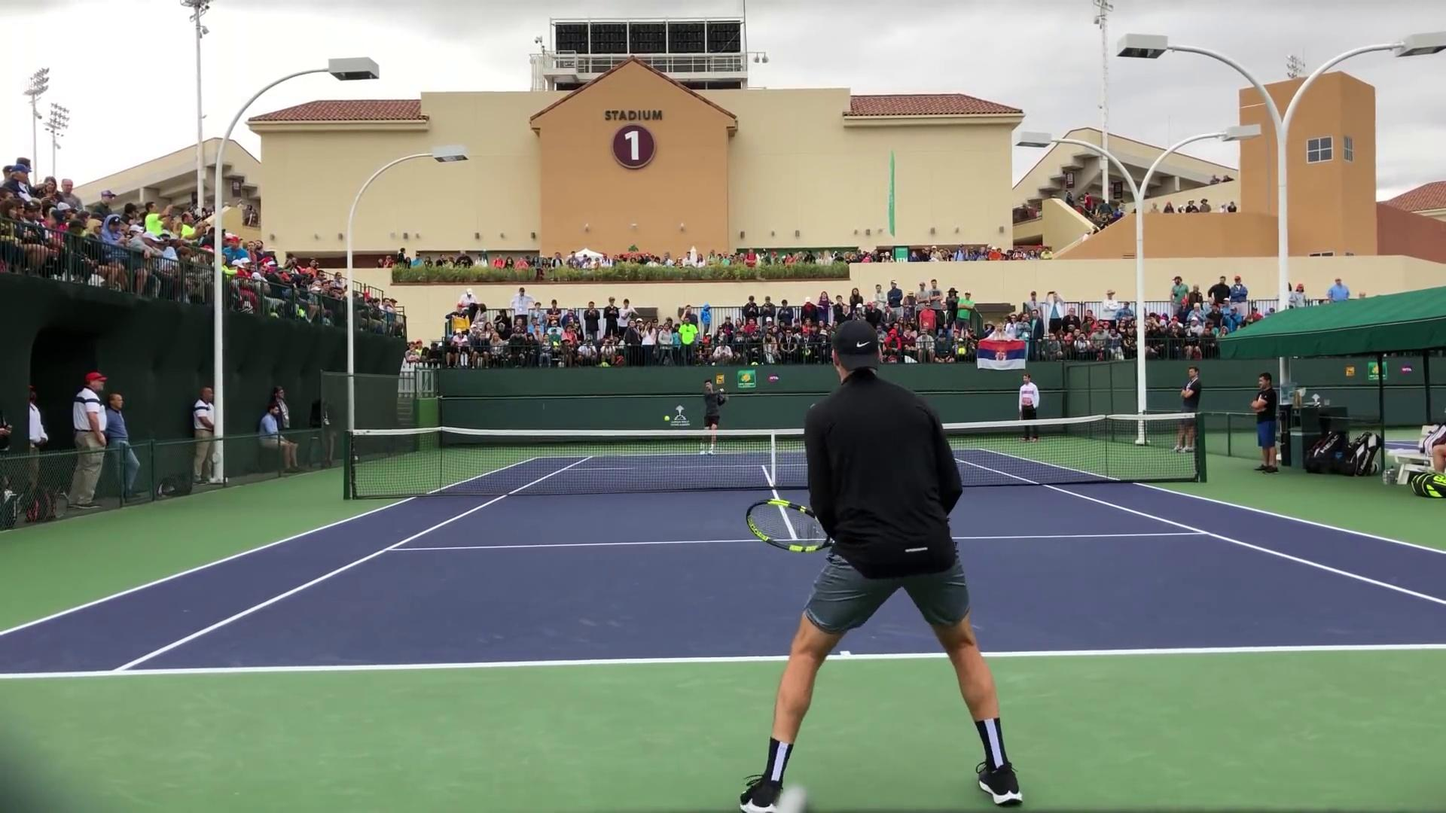ball: (661, 411, 675, 426)
